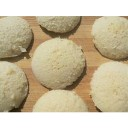idly: (29, 43, 86, 85), (91, 61, 128, 112), (92, 16, 128, 59), (1, 60, 27, 113), (1, 16, 32, 54), (37, 89, 88, 111), (34, 15, 81, 33)
